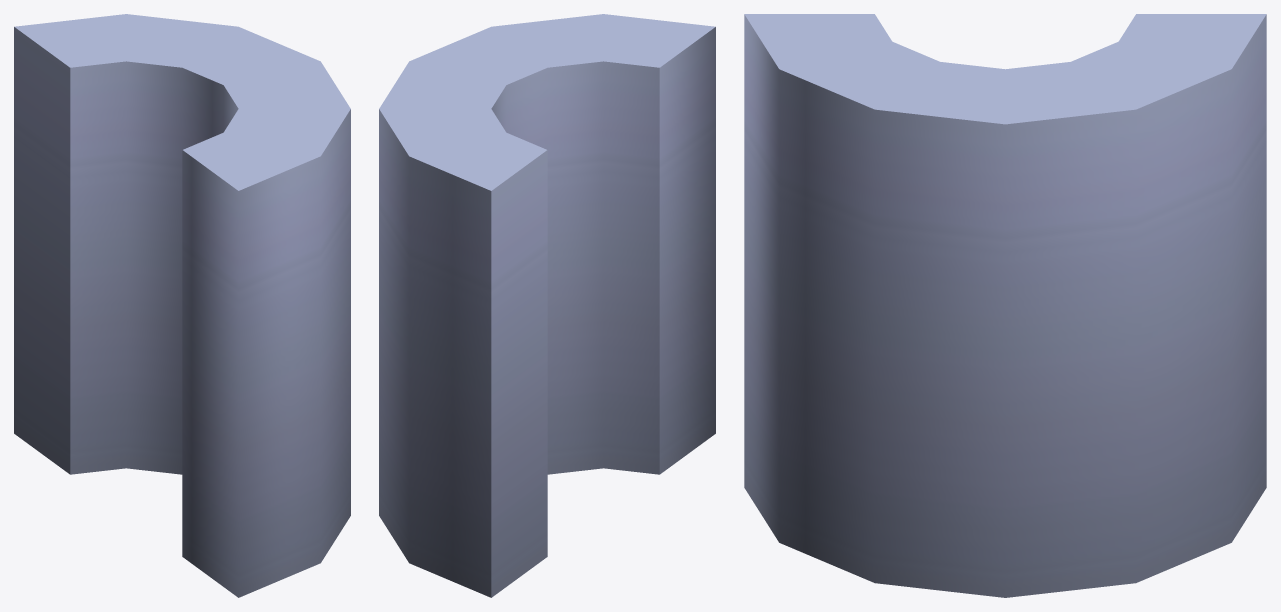
The model's file is kenney-prototype-shape-hollow-cylinder-half.glb.
The picture shows the model from 3 angles, left to right: view 1: azimuth 30°, elevation 25°; view 2: azimuth 150°, elevation 25°; view 3: azimuth 270°, elevation 25°; orthographic projection. The views are drawn at different scales.
Parts seen in each view (by area): view 1: shape-hollow-cylinder-half; view 2: shape-hollow-cylinder-half; view 3: shape-hollow-cylinder-half.
Part boxes in pixels (x1,y1,x2,y2): shape-hollow-cylinder-half: (14,14,350,597); shape-hollow-cylinder-half: (379,14,715,597); shape-hollow-cylinder-half: (744,14,1266,597).
Bounding box in the file's own units: 0.5001 × 1 × 1.
1 material, 1 textured.
